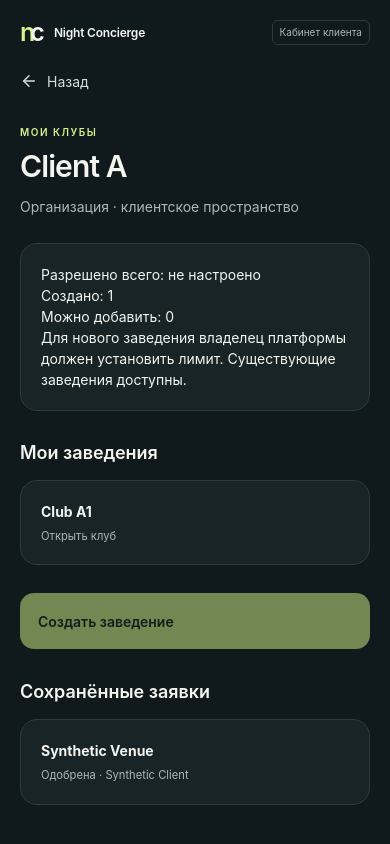
Scenario: connected onboarding screens › shows only authorized client and clubs, and requires server create authority
This screenshot has width=390, height=844.
Check: the button "Club A1 Открыть клуб" is shown, box [20, 480, 370, 565]
Click the button "Synthetic Venue Одобрена · Synthetic Client". click: (97, 751)
box: [20, 719, 370, 805]
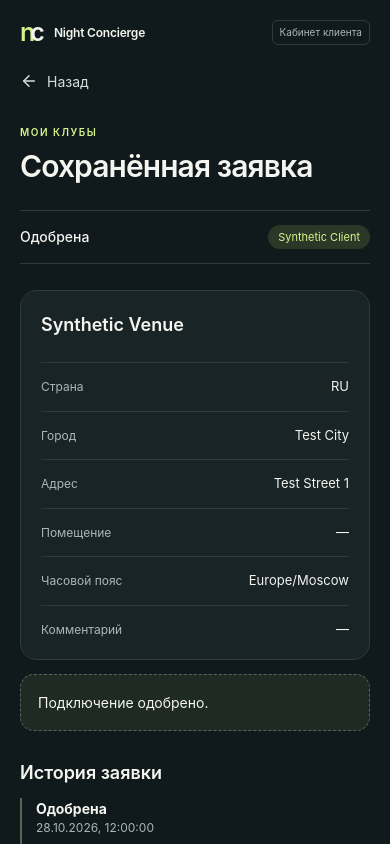
Check: the text "Подключение одобрено." is shown, box [20, 674, 370, 731]
